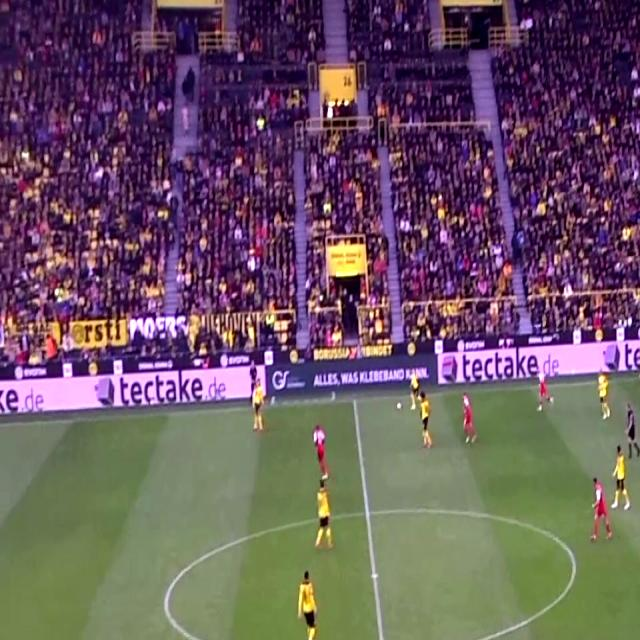ball: (394, 399, 403, 412)
referee: (624, 397, 640, 466)
soccer-player: (292, 557, 322, 640), (587, 469, 613, 550), (313, 476, 334, 559), (250, 354, 270, 440), (612, 440, 631, 520), (536, 350, 557, 421), (311, 415, 332, 479), (417, 386, 436, 456), (595, 356, 612, 422), (461, 389, 478, 452), (406, 362, 424, 417)
